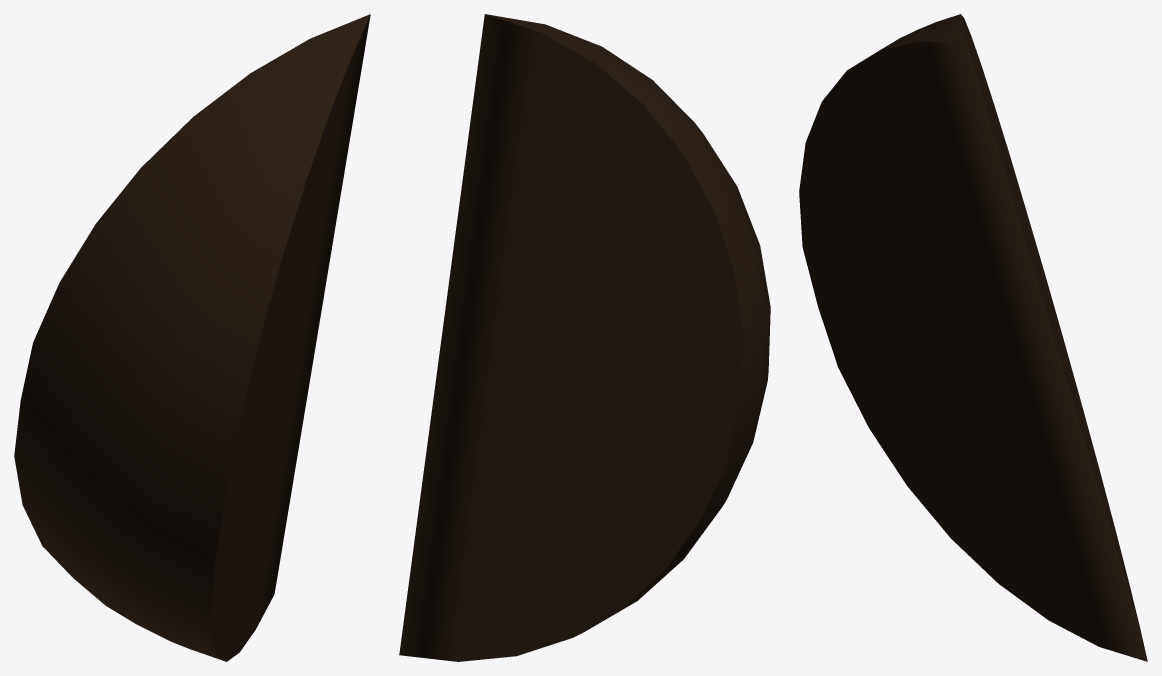
The model's file is watermelon.FBX.
3 renders of one model, left to right at view 1: azimuth 30°, elevation 25°; view 2: azimuth 150°, elevation 25°; view 3: azimuth 270°, elevation 25°, orthographic. The views are drawn at different scales.
Visible parts, largest first — view 1: Sphere001; view 2: Sphere001; view 3: Sphere001.
Boxes of the visible parts, x1,y1,x2,y2 form: Sphere001: (14,14,370,661); Sphere001: (399,14,770,661); Sphere001: (799,14,1147,661).
Size of the model in its own units: 77.25 by 153 by 77.43.
